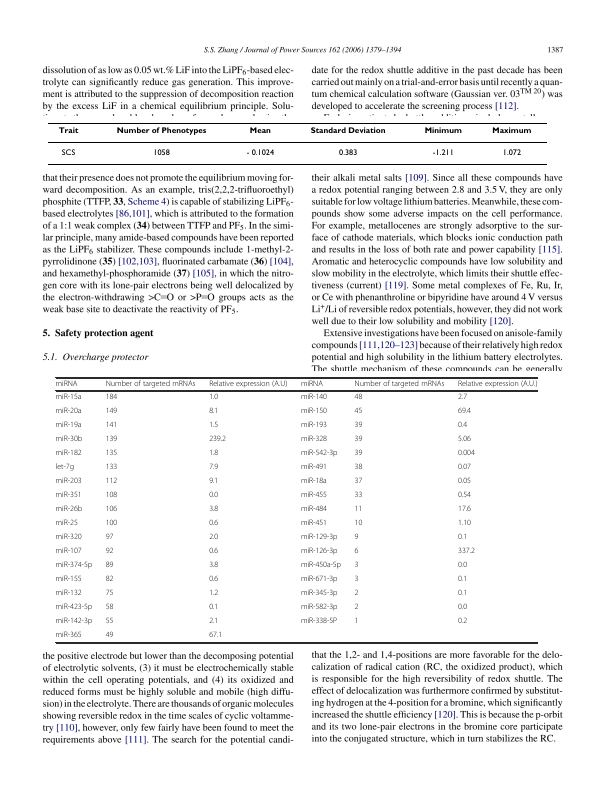borderless: (54, 376, 537, 642), (47, 121, 547, 164)
cell: (353, 380, 445, 389), (115, 126, 207, 135), (105, 380, 196, 389), (457, 380, 538, 389), (208, 380, 288, 389), (309, 126, 386, 135), (300, 561, 342, 571), (300, 449, 338, 459), (300, 533, 338, 543), (300, 547, 338, 557), (55, 561, 93, 571), (300, 575, 338, 585), (300, 589, 338, 599), (55, 603, 93, 613), (300, 603, 338, 613), (55, 617, 93, 627), (300, 617, 338, 627), (491, 126, 532, 135), (423, 126, 462, 135), (300, 393, 328, 403), (300, 407, 328, 417), (300, 421, 328, 431), (55, 435, 83, 445), (300, 435, 328, 445), (300, 463, 328, 473), (300, 477, 328, 487), (300, 491, 328, 501), (55, 505, 83, 515), (300, 505, 328, 515), (300, 519, 328, 529), (55, 393, 82, 403), (55, 407, 82, 417), (55, 421, 82, 431), (55, 449, 82, 459), (55, 477, 82, 487), (55, 491, 82, 501), (55, 533, 82, 543), (55, 547, 82, 557), (55, 575, 82, 585), (55, 589, 82, 599), (55, 631, 82, 641), (55, 519, 79, 529), (245, 148, 275, 156), (300, 380, 324, 389), (55, 380, 78, 389), (248, 126, 271, 135), (55, 463, 75, 473), (57, 126, 79, 135), (208, 435, 227, 445), (457, 449, 476, 459), (457, 547, 476, 557), (431, 148, 454, 156), (501, 148, 522, 156), (338, 148, 358, 156), (457, 407, 472, 417), (457, 435, 472, 445), (457, 463, 472, 473), (457, 477, 472, 487), (457, 491, 472, 501), (457, 505, 472, 515), (457, 519, 472, 529), (208, 631, 223, 641), (152, 148, 170, 156), (105, 393, 118, 403), (105, 407, 118, 417), (105, 421, 118, 431), (105, 435, 118, 445), (105, 449, 118, 459), (105, 463, 118, 473), (105, 477, 118, 487), (105, 491, 118, 501), (105, 505, 118, 515), (105, 519, 118, 529), (60, 148, 76, 156), (208, 393, 219, 403), (457, 393, 468, 403), (208, 407, 219, 417), (208, 421, 219, 431), (457, 421, 468, 431), (208, 449, 219, 459), (208, 463, 219, 473), (208, 477, 219, 487), (208, 491, 219, 501), (208, 505, 219, 515), (208, 519, 219, 529), (208, 533, 219, 543), (457, 533, 468, 543), (208, 547, 219, 557), (208, 561, 219, 571), (457, 561, 468, 571), (208, 575, 219, 585), (457, 575, 468, 585), (208, 589, 219, 599), (457, 589, 468, 599), (208, 603, 219, 613), (457, 603, 468, 613), (208, 617, 219, 627), (457, 617, 468, 627), (353, 393, 363, 403), (353, 407, 363, 417), (353, 421, 363, 431), (353, 435, 363, 445), (353, 449, 363, 459), (353, 463, 363, 473), (353, 477, 363, 487), (353, 491, 363, 501), (353, 505, 363, 515), (353, 519, 363, 529), (105, 533, 114, 543), (105, 547, 114, 557), (105, 561, 114, 571), (105, 575, 114, 585), (105, 589, 114, 599), (105, 603, 114, 613), (105, 617, 114, 627), (105, 631, 114, 641), (353, 533, 359, 543), (353, 547, 359, 557), (353, 561, 359, 571), (353, 575, 359, 585), (353, 589, 359, 599), (353, 603, 359, 613), (353, 617, 359, 627)
